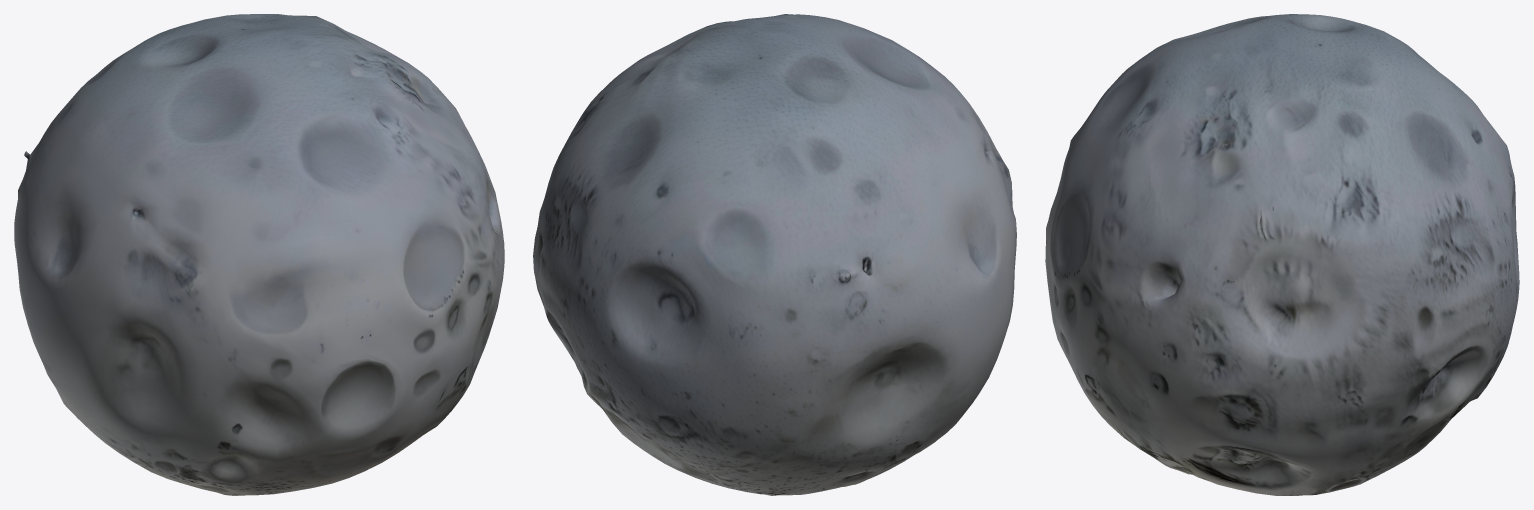
The model's file is luna.obj.
The picture shows the model from 3 angles, left to right: view 1: azimuth 30°, elevation 25°; view 2: azimuth 150°, elevation 25°; view 3: azimuth 270°, elevation 25°; orthographic projection.
Parts seen in each view (by area): view 1: tripo_node_1322649f-8b31-411d-8f76-f7658db299e9; view 2: tripo_node_1322649f-8b31-411d-8f76-f7658db299e9; view 3: tripo_node_1322649f-8b31-411d-8f76-f7658db299e9.
Boxes of the visible parts, x1,y1,x2,y2 form: tripo_node_1322649f-8b31-411d-8f76-f7658db299e9: (14, 14, 504, 495); tripo_node_1322649f-8b31-411d-8f76-f7658db299e9: (533, 14, 1016, 495); tripo_node_1322649f-8b31-411d-8f76-f7658db299e9: (1045, 14, 1519, 495).
Size of the model in its own units: 0.9994 by 0.9784 by 0.9694.
Materials: 1 (1 with a texture image).
